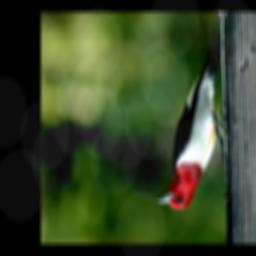Woodpecker: (155, 26, 235, 210)
